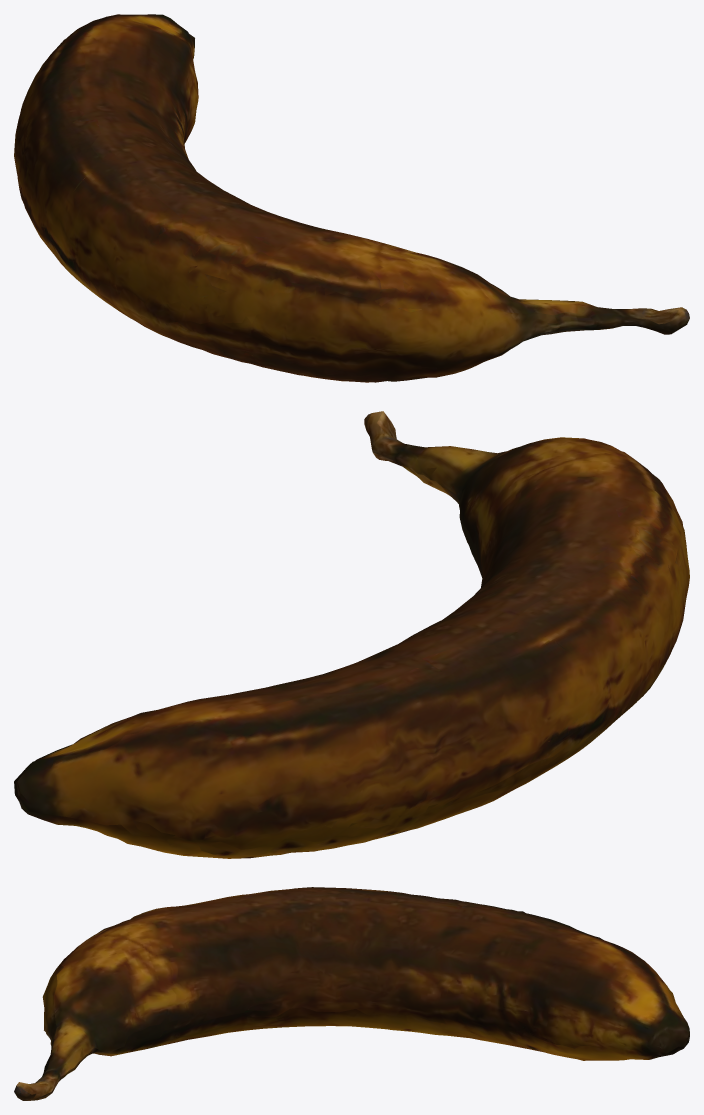
Rendered from food_produce_banana_b01.glb.
The picture shows the model from 3 angles, top to bottom: view 1: azimuth 30°, elevation 25°; view 2: azimuth 150°, elevation 25°; view 3: azimuth 270°, elevation 25°; orthographic projection. The views are drawn at different scales.
Parts seen in each view (by area): view 1: part0; view 2: part0; view 3: part0.
Boxes of the visible parts, x1,y1,x2,y2 form: part0: (14, 14, 689, 382); part0: (14, 411, 689, 858); part0: (14, 887, 689, 1100).
Bounding box in the file's own units: 0.0952 × 0.0316 × 0.1692.
1 material, 1 textured.
